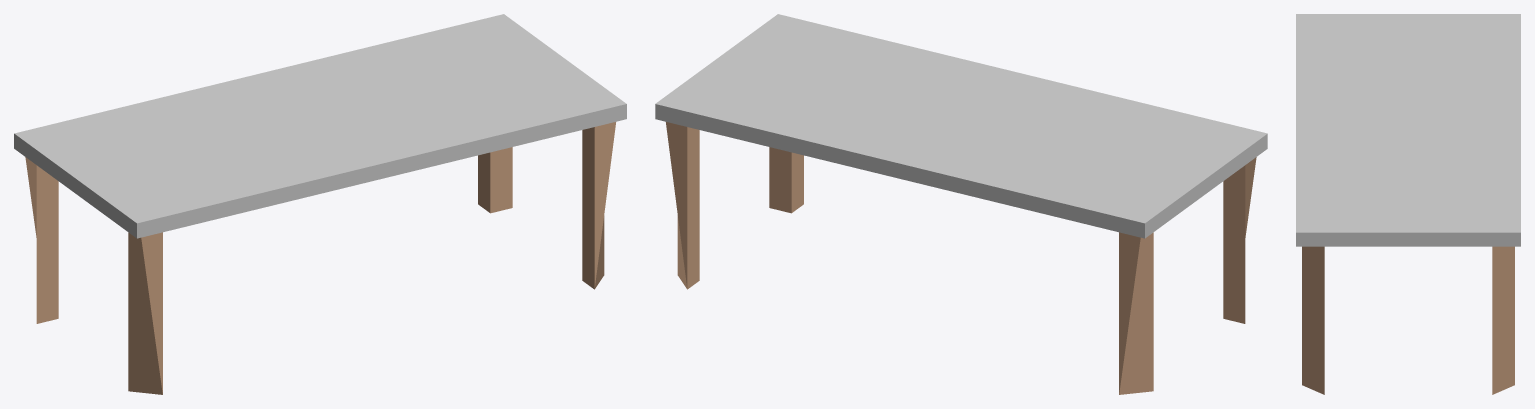
The model's file is Galds.fbx.
3 views of the same model, side by side, from view 1: azimuth 30°, elevation 25°; view 2: azimuth 150°, elevation 25°; view 3: azimuth 270°, elevation 25° (orthographic). The views are drawn at different scales.
Visible parts, largest first — view 1: Cube; view 2: Cube; view 3: Cube.
Part boxes in pixels (x1,y1,x2,y2): Cube: [14, 14, 626, 394]; Cube: [655, 14, 1267, 394]; Cube: [1296, 14, 1520, 394].
Size of the model in its own units: 460 by 162 by 200.
